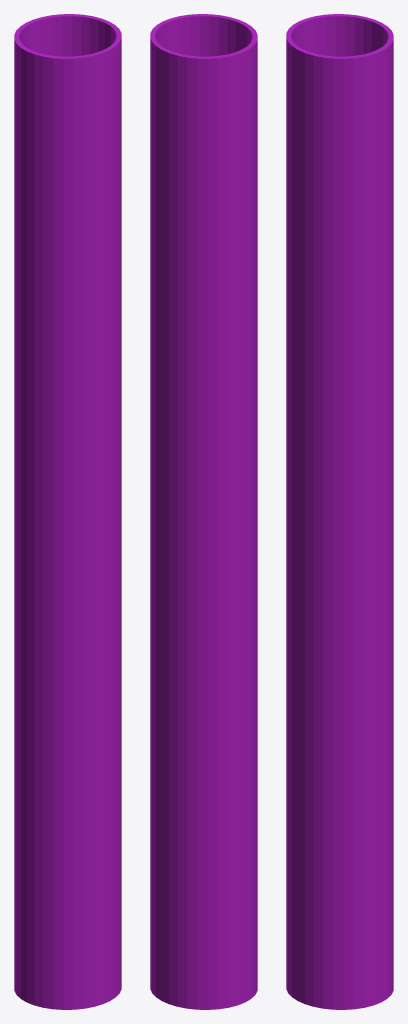
The model's file is straw.gltf.
The picture shows the model from 3 angles, left to right: view 1: azimuth 30°, elevation 25°; view 2: azimuth 150°, elevation 25°; view 3: azimuth 330°, elevation 25°; orthographic projection.
Visible parts, largest first — view 1: straw; view 2: straw; view 3: straw.
Part boxes in pixels (<box>): straw: <box>14,14,121,1009</box>; straw: <box>150,14,257,1009</box>; straw: <box>286,14,393,1009</box>.
Size of the model in its own units: 0.3518 by 3.39 by 0.3408.
